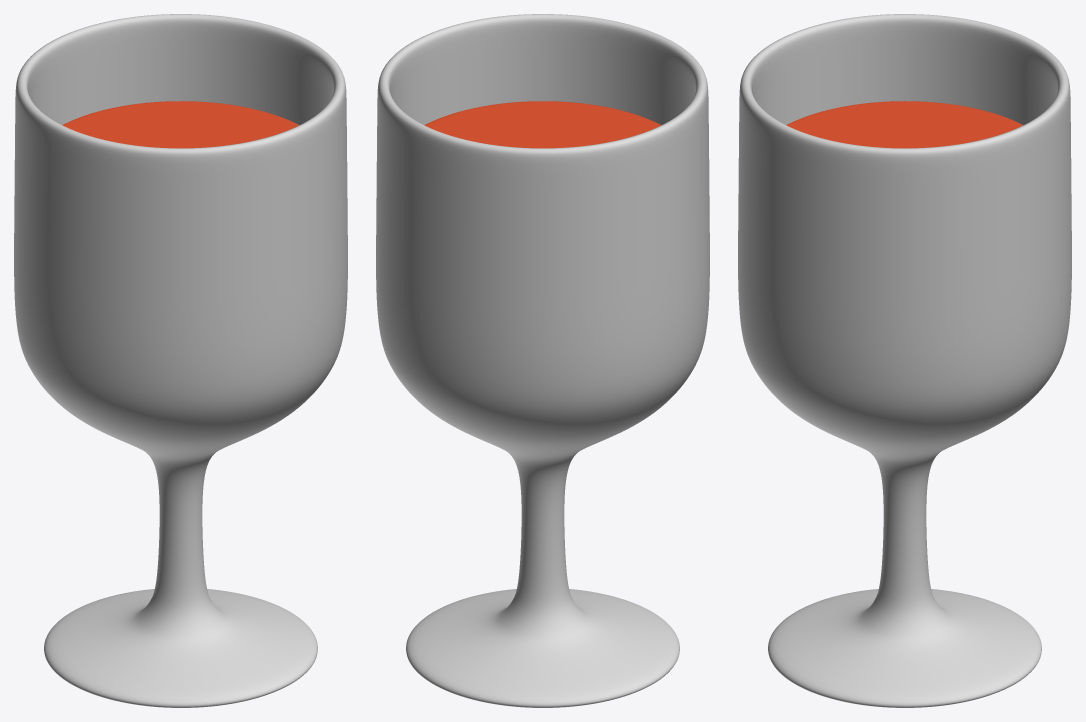
The model's file is glass.fbx.
3 renders of one model, left to right at view 1: azimuth 30°, elevation 25°; view 2: azimuth 150°, elevation 25°; view 3: azimuth 270°, elevation 25°, orthographic.
Parts seen in each view (by area): view 1: glass, Water; view 2: glass, Water; view 3: glass, Water.
Boxes of the visible parts, left/top/right/bottom form: glass: left=14, top=14, right=347, bottom=707; Water: left=62, top=101, right=299, bottom=148; glass: left=376, top=14, right=709, bottom=707; Water: left=424, top=101, right=661, bottom=148; glass: left=738, top=14, right=1071, bottom=707; Water: left=786, top=101, right=1023, bottom=148.
Bounding box in the file's own units: 99.94 × 188 × 99.94.
